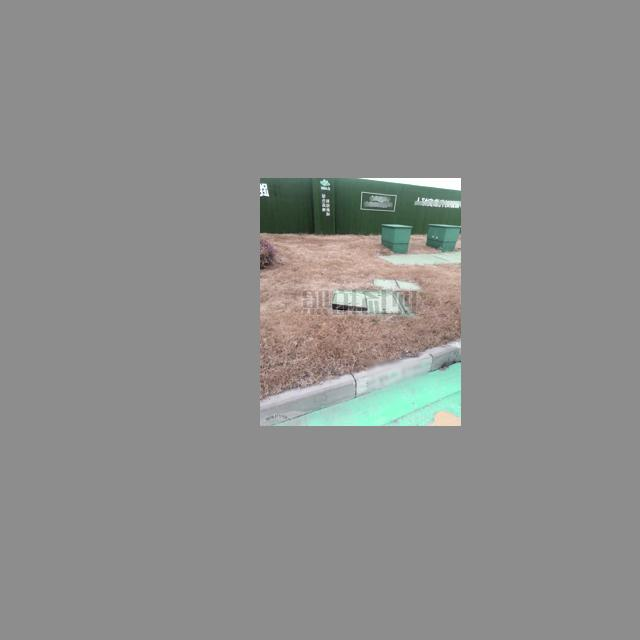uncovered: (330, 288, 404, 313)
